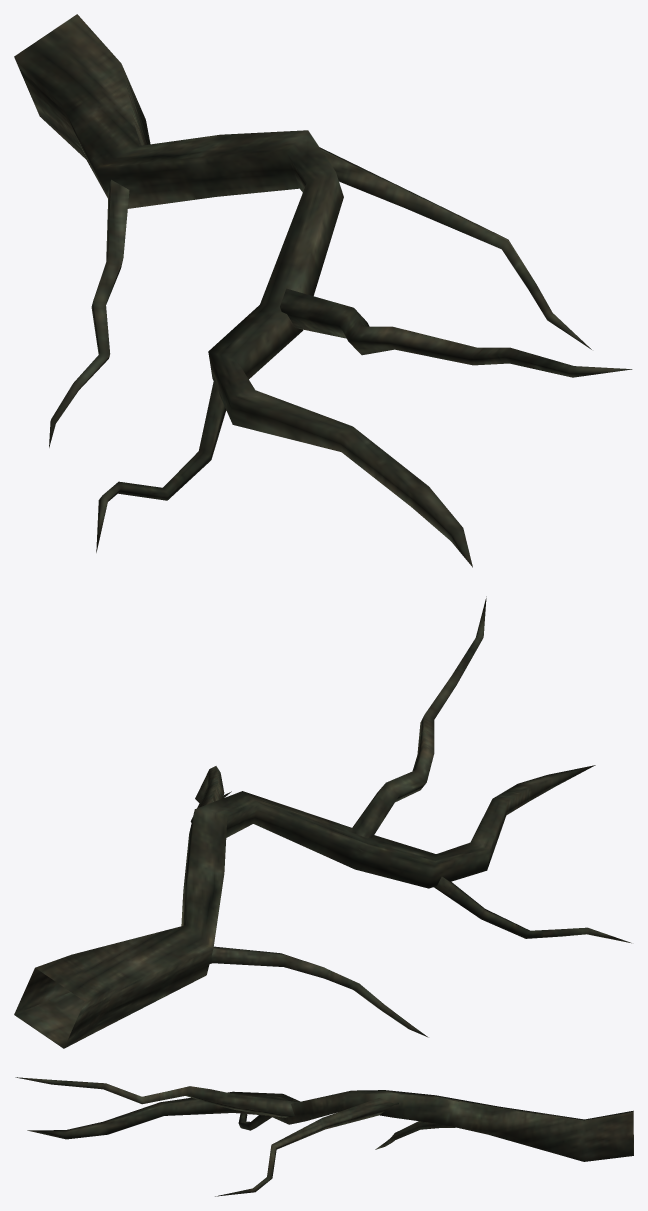
File: Roots_sm1A.fbx
The picture shows the model from 3 angles, top to bottom: view 1: azimuth 30°, elevation 25°; view 2: azimuth 150°, elevation 25°; view 3: azimuth 270°, elevation 25°; orthographic projection. The views are drawn at different scales.
Visible parts, largest first — view 1: polySurface28; view 2: polySurface28; view 3: polySurface28.
Boxes of the visible parts, x1=… form: polySurface28: x1=14, y1=14, x2=632, y2=567; polySurface28: x1=14, y1=596, x2=631, y2=1048; polySurface28: x1=15, y1=1077, x2=633, y2=1196.
Bounding box in the file's own units: 2.57 × 1.26 × 5.01.
